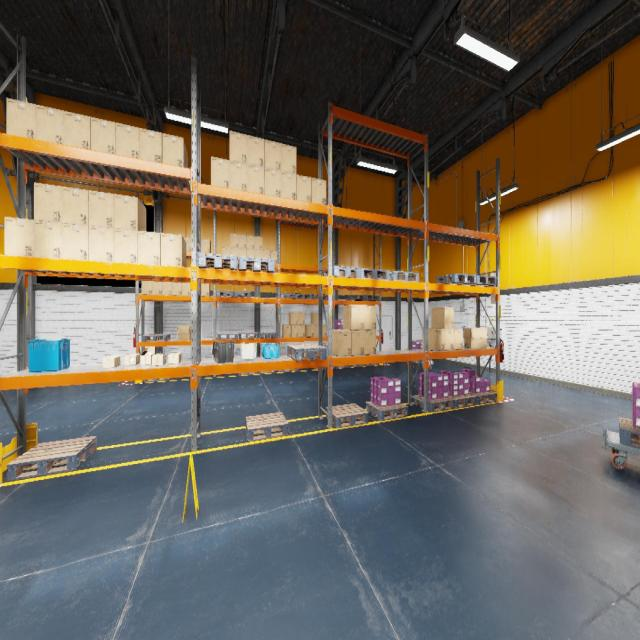box: (4, 216, 34, 257), (6, 98, 36, 138), (114, 194, 146, 230), (34, 182, 62, 223), (36, 104, 64, 144), (34, 220, 62, 258), (62, 186, 89, 225), (64, 111, 90, 149), (62, 224, 89, 260), (89, 190, 114, 228), (162, 132, 188, 168), (89, 226, 114, 262), (91, 117, 115, 154), (161, 233, 186, 267), (114, 229, 138, 263), (116, 123, 139, 158), (138, 230, 161, 265), (139, 128, 162, 162), (229, 130, 247, 163), (211, 156, 229, 188), (264, 139, 281, 171), (247, 135, 264, 167), (343, 305, 364, 330), (247, 164, 264, 194), (230, 160, 247, 190), (422, 328, 444, 351), (463, 328, 488, 348), (332, 330, 351, 356), (264, 168, 281, 196), (432, 307, 454, 328), (281, 144, 296, 174), (281, 171, 296, 199), (312, 177, 326, 205), (297, 174, 311, 202), (352, 330, 364, 356), (364, 305, 376, 330), (364, 330, 376, 354), (140, 346, 155, 365), (442, 328, 453, 351), (177, 325, 191, 340), (103, 356, 120, 368), (453, 328, 462, 350), (152, 353, 166, 366), (125, 353, 140, 365), (201, 238, 211, 252), (168, 353, 181, 363), (162, 282, 172, 295), (152, 281, 162, 294), (142, 281, 152, 294), (201, 283, 210, 296), (172, 282, 181, 295), (238, 234, 246, 248), (230, 247, 238, 261), (305, 324, 314, 336), (282, 325, 291, 337), (289, 312, 298, 324), (183, 237, 191, 250), (230, 234, 238, 247), (270, 250, 277, 264), (247, 235, 254, 249), (182, 283, 190, 295), (255, 236, 262, 249), (238, 248, 246, 259), (222, 246, 230, 257), (311, 312, 318, 324), (298, 325, 305, 337), (291, 325, 298, 337), (262, 250, 270, 260), (247, 248, 254, 259), (298, 312, 304, 324), (255, 250, 262, 260), (322, 324, 327, 337), (314, 324, 318, 336)
pallets: (7, 436, 96, 481), (246, 412, 288, 441), (326, 403, 368, 428), (366, 401, 408, 421), (414, 394, 454, 412), (198, 252, 237, 270), (618, 417, 640, 448), (288, 344, 326, 361), (238, 256, 275, 272), (323, 265, 361, 278), (436, 273, 476, 285), (447, 394, 477, 408), (468, 391, 497, 405), (460, 275, 496, 286), (361, 268, 390, 280), (389, 271, 418, 281), (142, 334, 170, 342), (217, 333, 238, 340), (238, 332, 258, 339), (216, 290, 234, 297), (360, 295, 379, 301), (346, 294, 365, 300), (143, 378, 170, 382), (234, 291, 251, 297), (260, 332, 276, 338), (280, 293, 295, 299), (295, 294, 312, 299), (238, 372, 258, 375), (312, 295, 327, 299), (258, 371, 276, 374), (281, 369, 299, 372), (334, 365, 350, 368)
